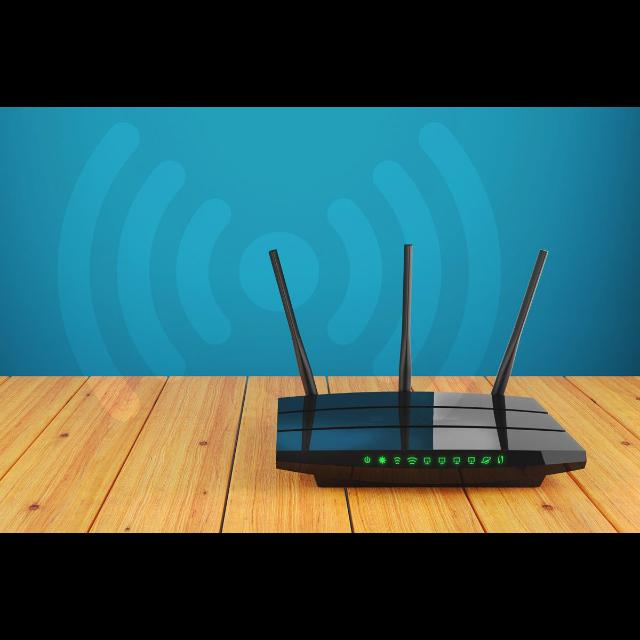Router: (269, 244, 588, 490)
